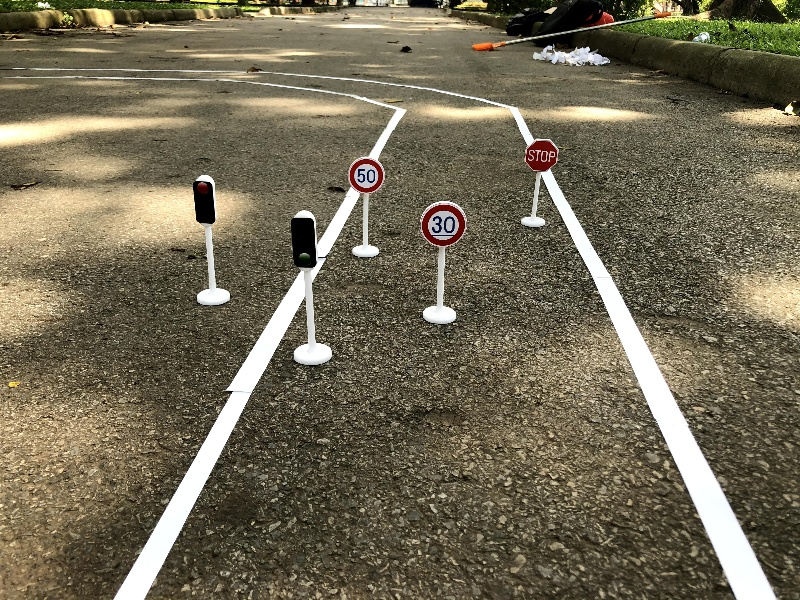Bien_bao_30: (413, 198, 472, 333)
Bien_bao_50: (343, 151, 396, 263)
Den_Do: (182, 169, 243, 312)
Den_Xanh: (281, 204, 344, 374)
Stop: (514, 132, 564, 233)
